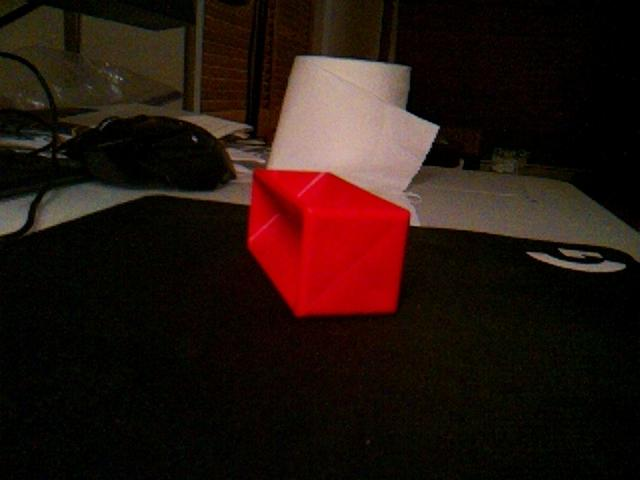red: (245, 167, 412, 319)
